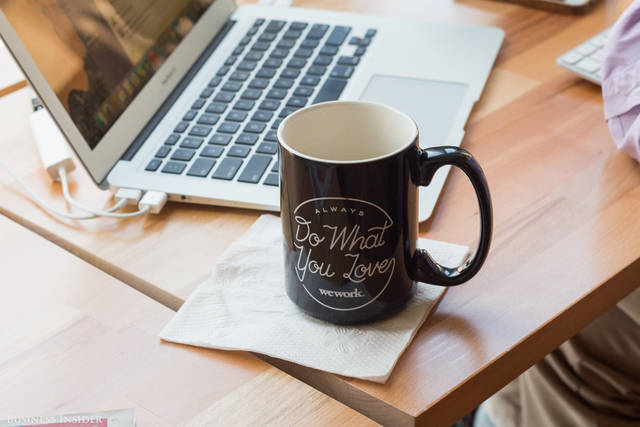wework: (318, 286, 362, 301)
